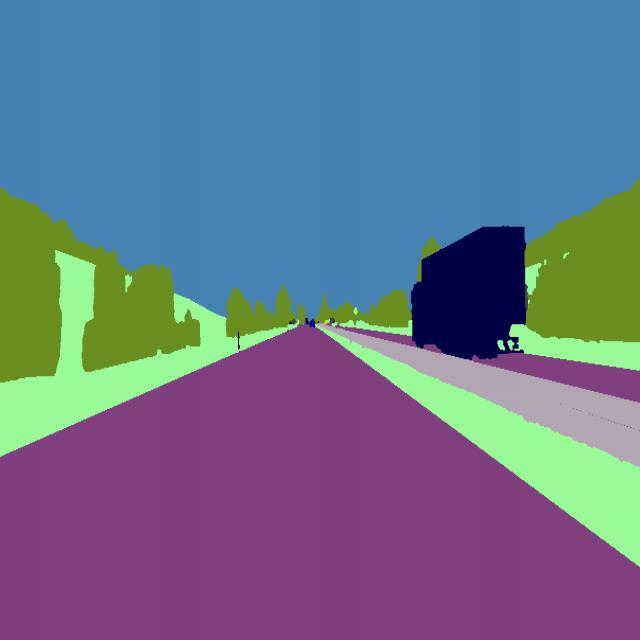safe: (410, 222, 529, 368)
